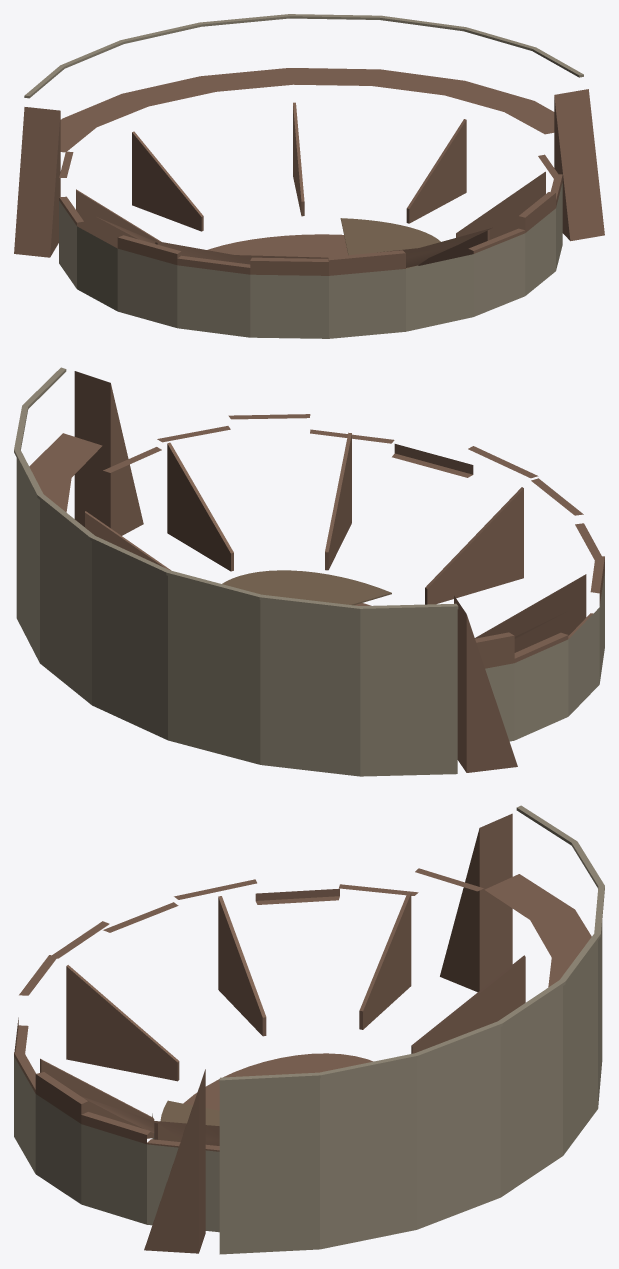
The model's file is colosseum-r3-lod2.glb.
The picture shows the model from 3 angles, top to bottom: view 1: azimuth 30°, elevation 25°; view 2: azimuth 150°, elevation 25°; view 3: azimuth 270°, elevation 25°; orthographic projection. The views are drawn at different scales.
Parts seen in each view (by area): view 1: Roman brick and tufa, Tivoli travertine, Arena floor, oak boards; view 2: Tivoli travertine, Roman brick and tufa, Arena floor, oak boards; view 3: Tivoli travertine, Roman brick and tufa, Arena floor, oak boards.
Boxes of the visible parts, x1=… form: Roman brick and tufa: x1=14, y1=68, x2=604, y2=275; Tivoli travertine: x1=24, y1=14, x2=583, y2=338; Arena floor, oak boards: x1=340, y1=218, x2=440, y2=268; Tivoli travertine: x1=14, y1=367, x2=604, y2=776; Roman brick and tufa: x1=29, y1=371, x2=604, y2=772; Arena floor, oak boards: x1=222, y1=570, x2=391, y2=605; Tivoli travertine: x1=14, y1=805, x2=604, y2=1254; Roman brick and tufa: x1=14, y1=813, x2=591, y2=1253; Arena floor, oak boards: x1=160, y1=1100, x2=219, y2=1125.
Size of the model in its own units: 175 by 54.8 by 149.
